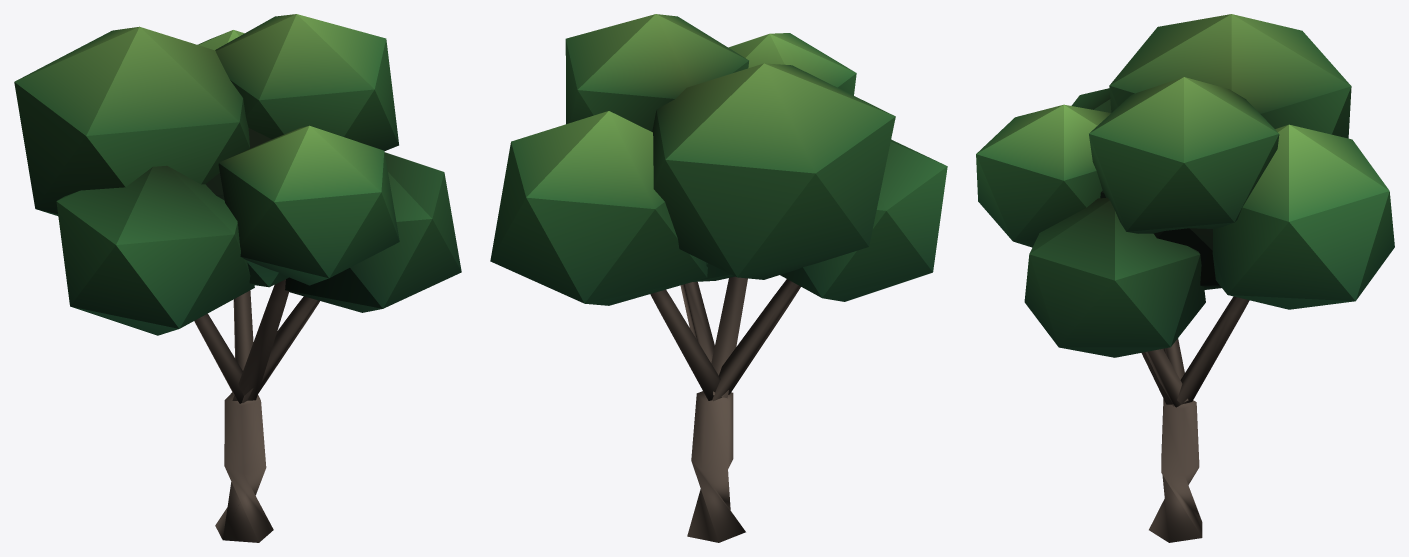
File: tree-camellia-far.glb
The picture shows the model from 3 angles, left to right: view 1: azimuth 30°, elevation 25°; view 2: azimuth 150°, elevation 25°; view 3: azimuth 270°, elevation 25°; orthographic projection. The views are drawn at different scales.
Visible parts, largest first — view 1: 1_leaves.011, 0_trunk.011; view 2: 1_leaves.011, 0_trunk.011; view 3: 1_leaves.011, 0_trunk.011.
Boxes of the visible parts, <box> form: 1_leaves.011: <box>14,14,461,335</box>; 0_trunk.011: <box>194,279,319,542</box>; 1_leaves.011: <box>490,14,947,305</box>; 0_trunk.011: <box>650,276,800,542</box>; 1_leaves.011: <box>976,14,1394,357</box>; 0_trunk.011: <box>1141,296,1249,542</box>.
Bounding box in the file's own units: 2.83 × 3.76 × 2.97.
